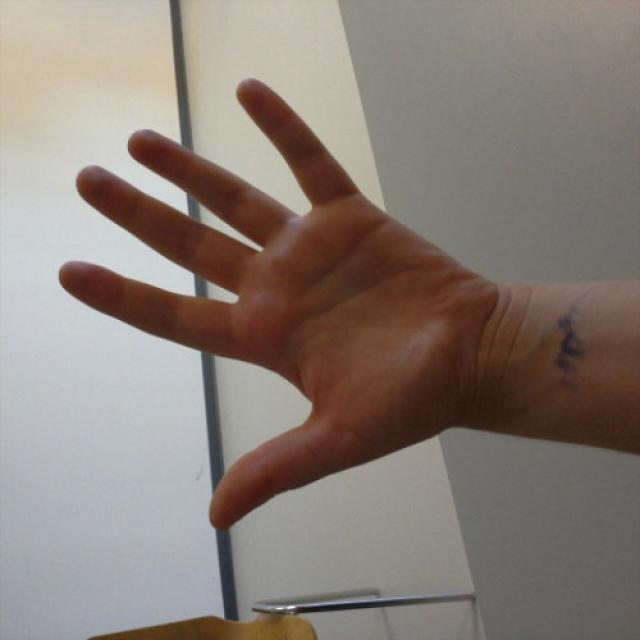paper: (56, 77, 497, 525)
